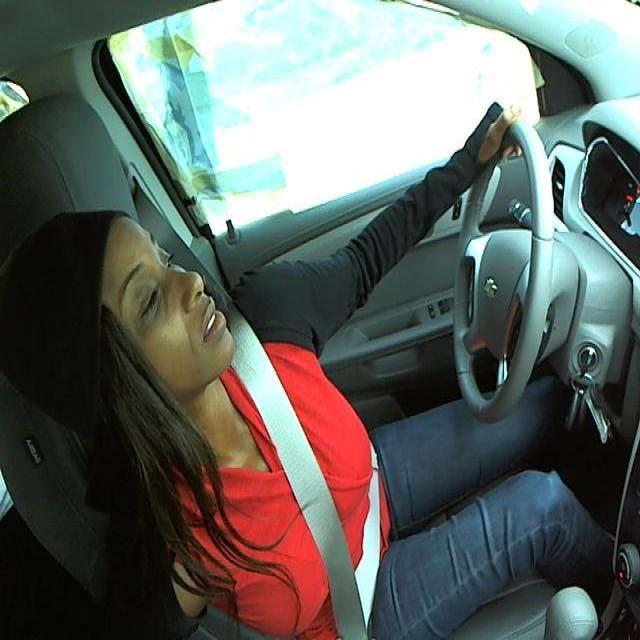seatbelt: (240, 362, 385, 614)
